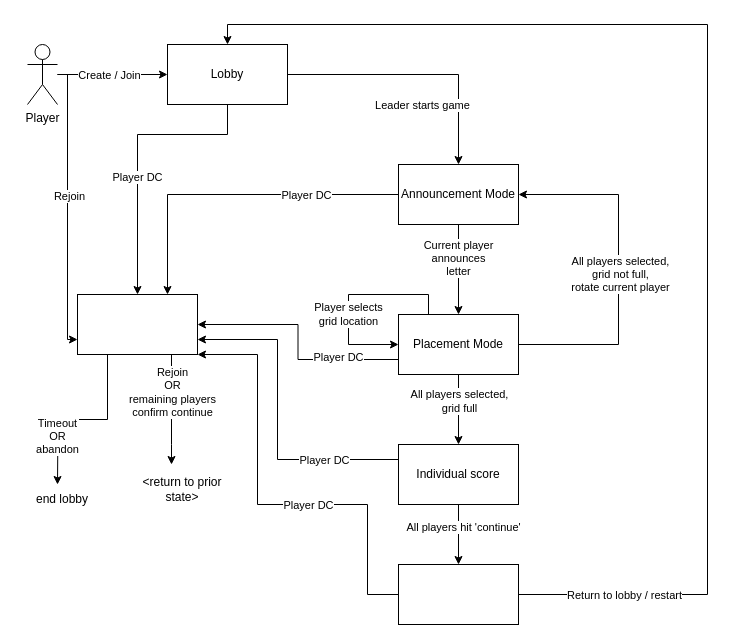
This 733x642 diagram has some shape labels left out. Here are the shapes that lost their labels. From the top down, the box of each, then its label:
(76, 294, 198, 354): Player disconnected
(398, 564, 518, 624): End state / display winners
